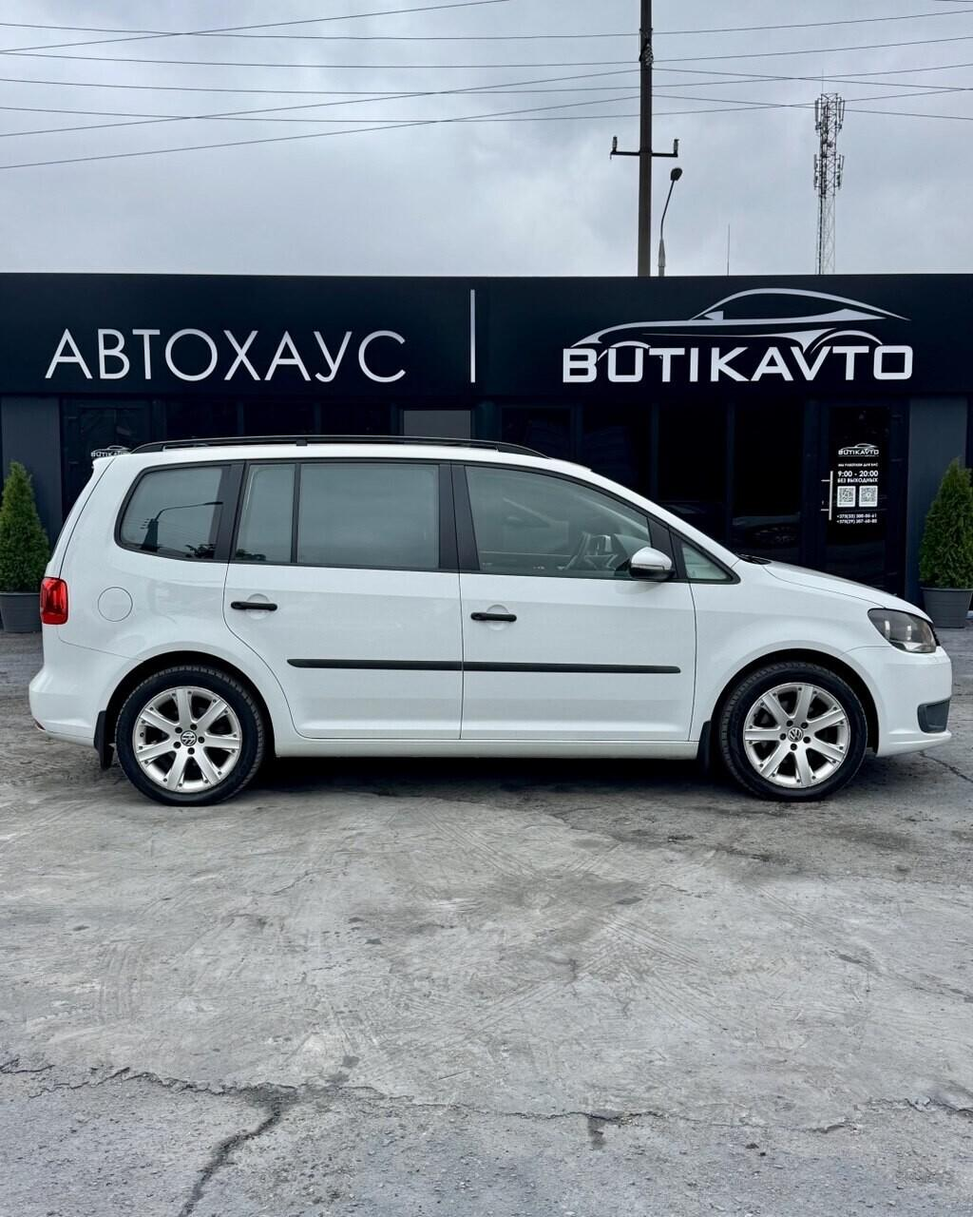Touran_2010-2015: (24, 429, 958, 808)
